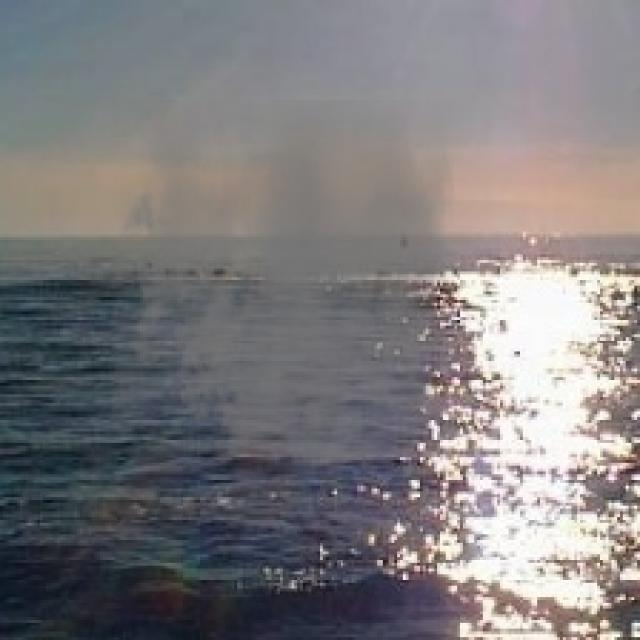Smoke: (112, 100, 454, 497)
